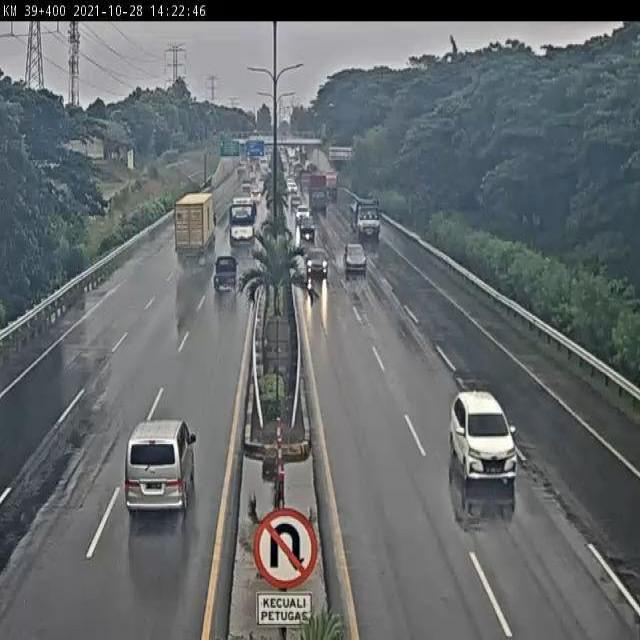big bus: (227, 201, 256, 248)
truck-l-: (347, 195, 381, 242)
truck-xl-: (172, 192, 219, 264)
